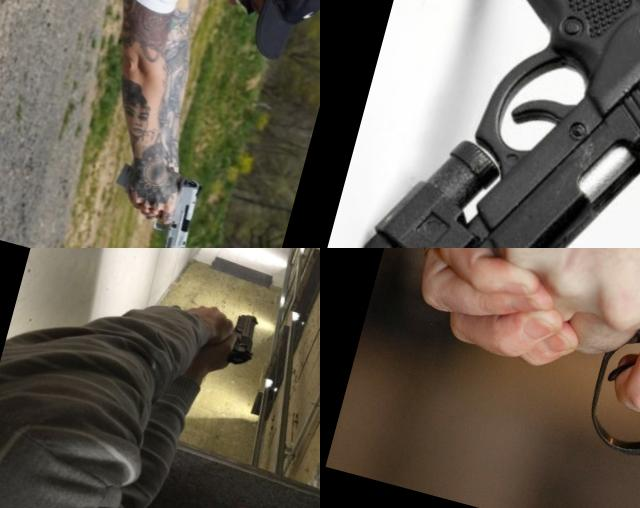handgun: (348, 0, 640, 248), (541, 248, 640, 508), (94, 156, 209, 248), (202, 302, 266, 374)
